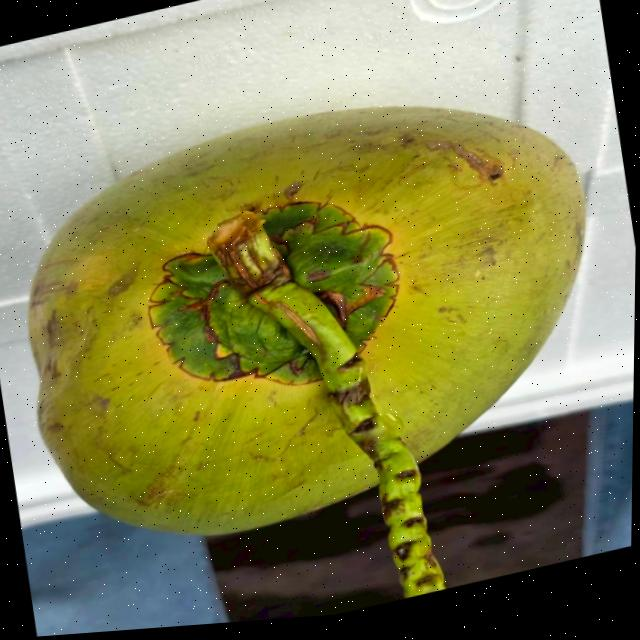coco_2.0: (104, 137, 452, 453)
